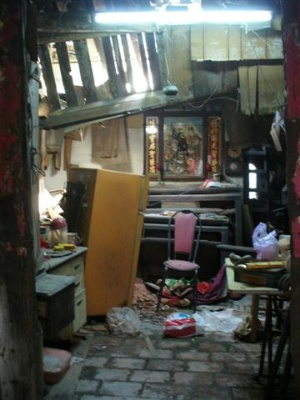box: (234, 267, 288, 288)
plastic_bag: (162, 309, 239, 338), (254, 223, 280, 260)
